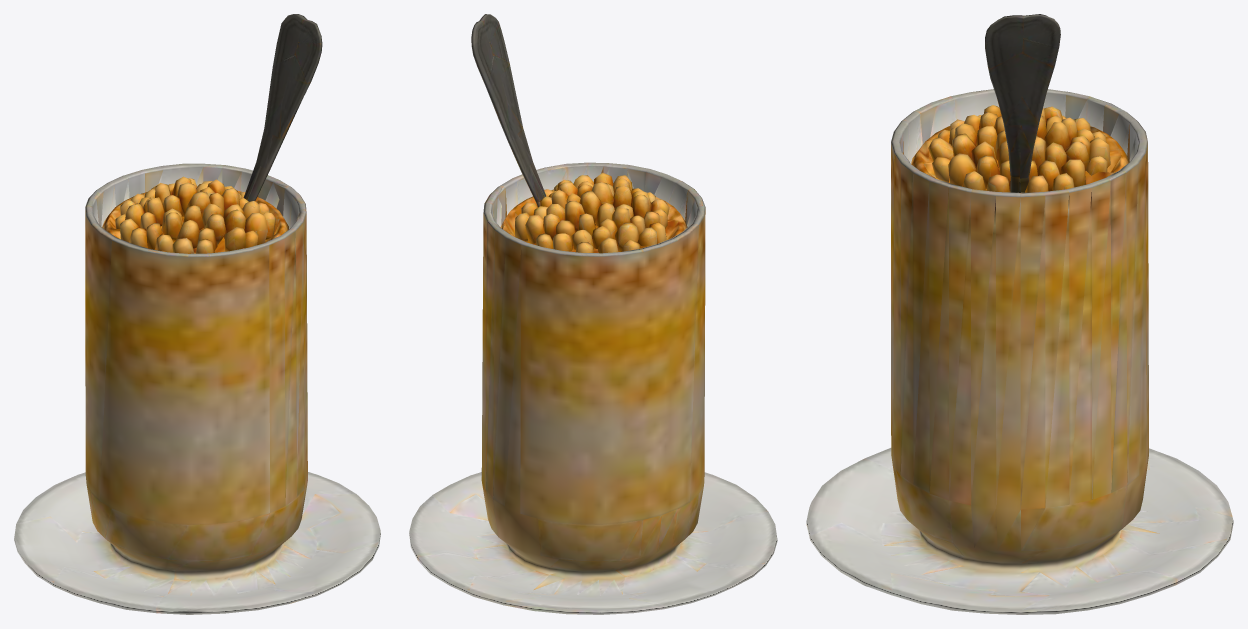
The model's file is mais-con-yelo.glb.
The picture shows the model from 3 angles, left to right: view 1: azimuth 30°, elevation 25°; view 2: azimuth 150°, elevation 25°; view 3: azimuth 270°, elevation 25°; orthographic projection. The views are drawn at different scales.
Visible parts, largest first — view 1: geometry_0; view 2: geometry_0; view 3: geometry_0.
Part boxes in pixels (x1,y1,x2,y2): geometry_0: (14,14,380,614); geometry_0: (409,14,777,614); geometry_0: (806,14,1233,614).
Bounding box in the file's own units: 0.6662 × 1 × 0.6623.
Materials: 1 (1 with a texture image).
